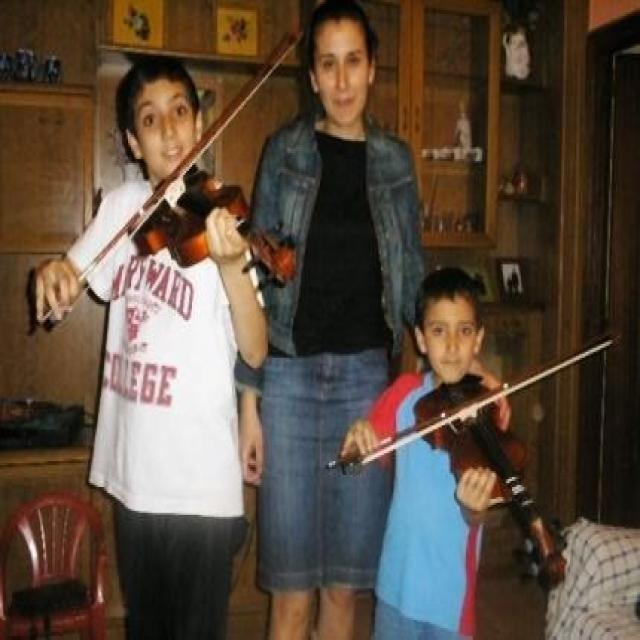violin: (414, 374, 571, 596), (122, 168, 301, 286)
